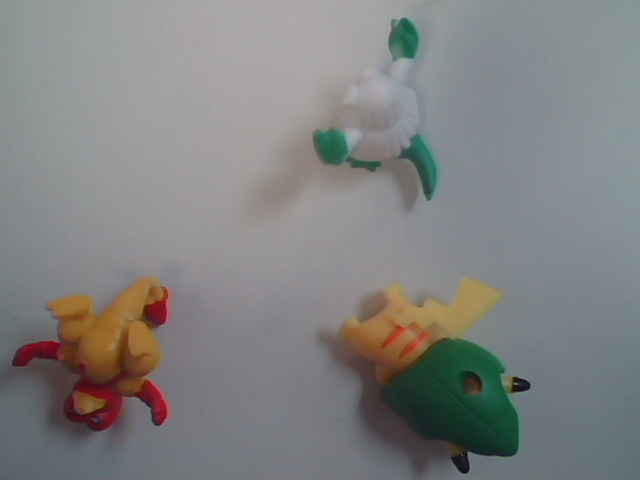abomasnow: (281, 20, 477, 225)
magmar: (15, 247, 244, 451)
pikachu: (323, 252, 552, 480)
